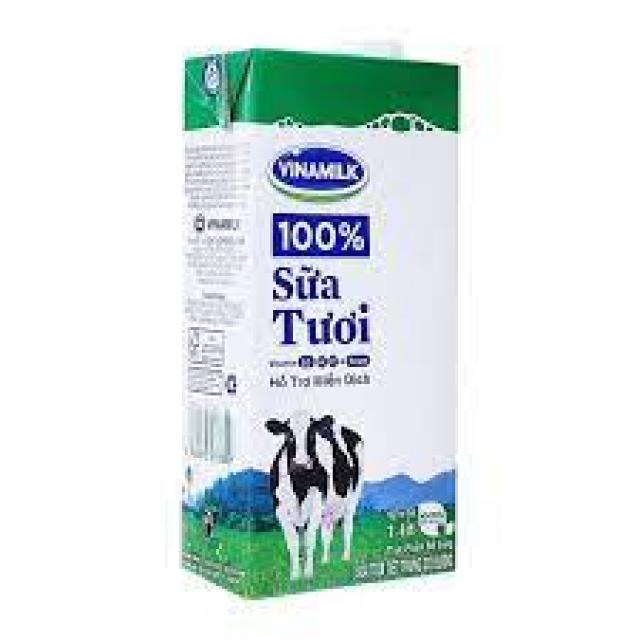non_white_jug: (181, 51, 479, 589)
